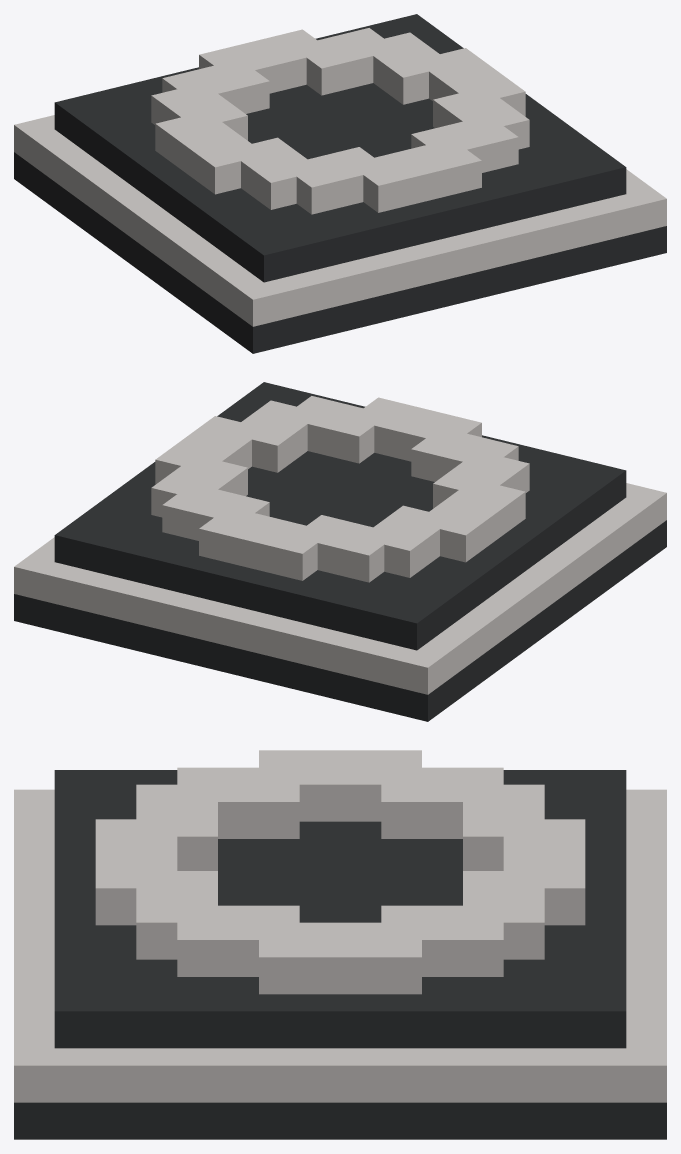
The model's file is o-v1-black-white.gltf.
The picture shows the model from 3 angles, top to bottom: view 1: azimuth 30°, elevation 25°; view 2: azimuth 150°, elevation 25°; view 3: azimuth 270°, elevation 25°; orthographic projection. The views are drawn at different scales.
Parts seen in each view (by area): view 1: Untitled; view 2: Untitled; view 3: Untitled.
Part boxes in pixels (box(x1,y1,x2,y2)): Untitled: box(14, 14, 666, 353); Untitled: box(14, 382, 666, 721); Untitled: box(14, 750, 666, 1139).
Size of the model in its own units: 1.6 by 0.4 by 1.6.
Materials: 1 (1 with a texture image).
